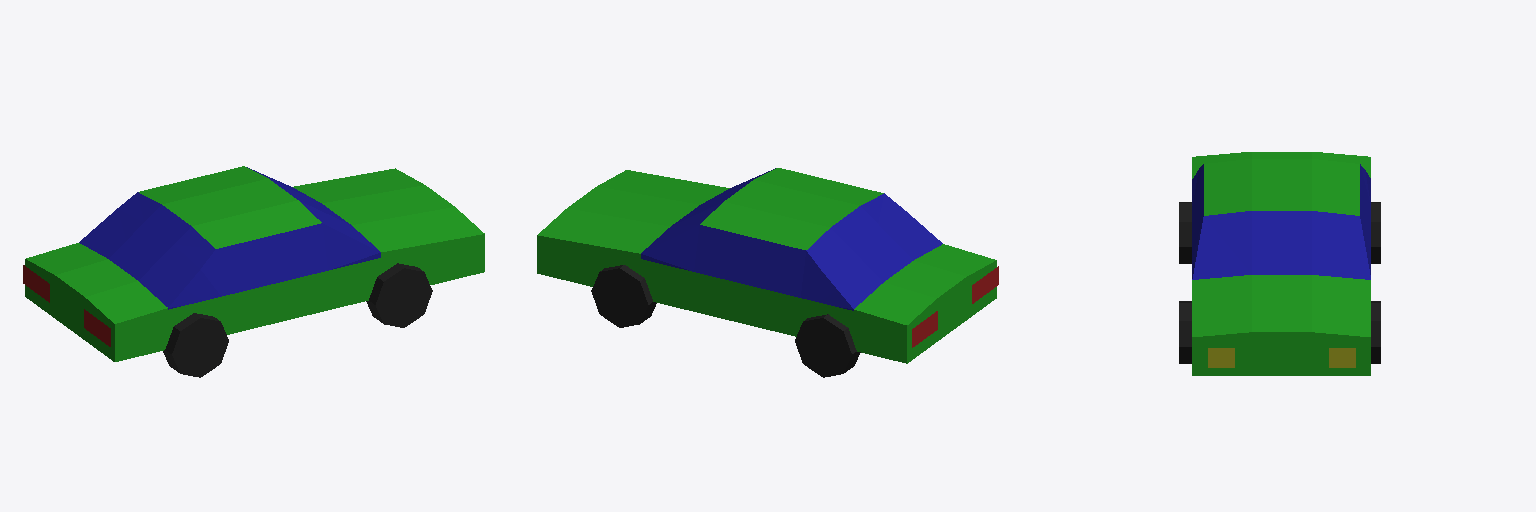
Rendered from car.obj.
The picture shows the model from 3 angles: view 1: azimuth 30°, elevation 25°; view 2: azimuth 150°, elevation 25°; view 3: azimuth 270°, elevation 25°; orthographic projection.
Visible parts, largest first — view 1: Cube_Cube.001_#33CC33, Cube_Cube.001_#3333CC, Cube_Cube.001_#333333, Cube_Cube.001_#CC3333; view 2: Cube_Cube.001_#33CC33, Cube_Cube.001_#3333CC, Cube_Cube.001_#333333, Cube_Cube.001_#CC3333; view 3: Cube_Cube.001_#33CC33, Cube_Cube.001_#3333CC, Cube_Cube.001_#333333, Cube_Cube.001_#CCCC33.
Boxes of the visible parts, box(x1,y1,x2,y2) form: Cube_Cube.001_#33CC33: box(25, 166, 484, 361); Cube_Cube.001_#3333CC: box(79, 167, 380, 309); Cube_Cube.001_#333333: box(163, 263, 432, 377); Cube_Cube.001_#CC3333: box(23, 265, 110, 346); Cube_Cube.001_#33CC33: box(537, 168, 996, 363); Cube_Cube.001_#3333CC: box(641, 168, 942, 310); Cube_Cube.001_#333333: box(591, 265, 860, 377); Cube_Cube.001_#CC3333: box(912, 266, 998, 347); Cube_Cube.001_#33CC33: box(1192, 152, 1370, 375); Cube_Cube.001_#3333CC: box(1192, 164, 1370, 279); Cube_Cube.001_#333333: box(1179, 202, 1380, 363); Cube_Cube.001_#CCCC33: box(1208, 348, 1355, 367).
Bounding box in the file's own units: 3.59 × 1.07 × 1.67.